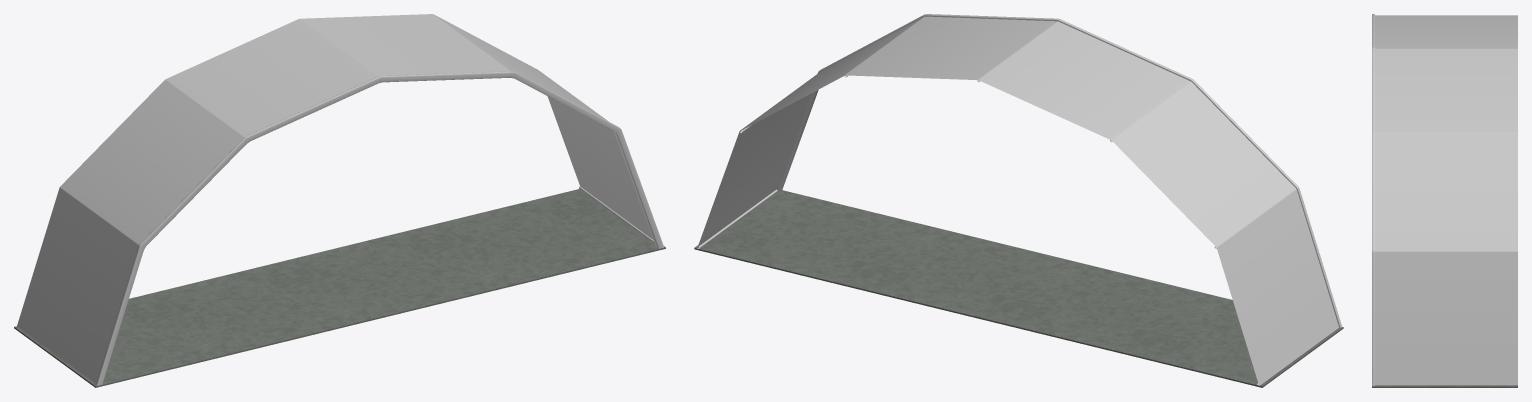
The model's file is Warehouse01_2.FBX.
The picture shows the model from 3 angles, left to right: view 1: azimuth 30°, elevation 25°; view 2: azimuth 150°, elevation 25°; view 3: azimuth 270°, elevation 25°; orthographic projection. The views are drawn at different scales.
Parts seen in each view (by area): view 1: Warehouse01_2; view 2: Warehouse01_2; view 3: Warehouse01_2.
Boxes of the visible parts, x1,y1,x2,y2 form: Warehouse01_2: (14, 14, 665, 387); Warehouse01_2: (694, 14, 1343, 387); Warehouse01_2: (1372, 14, 1517, 387).
Size of what is drawn, in the model's own units: 20.2 by 8.17 by 5.
